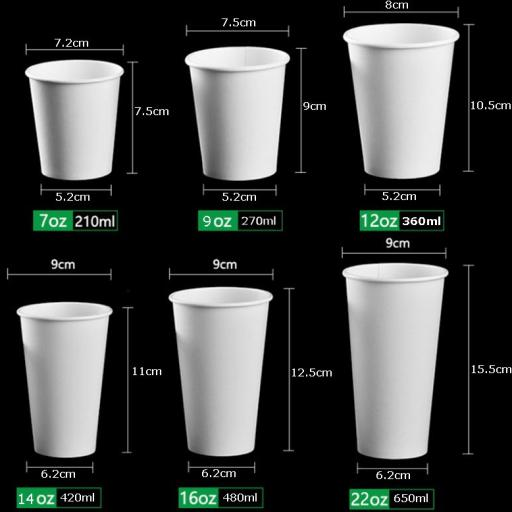cup: (344, 263, 446, 459), (344, 24, 457, 178), (169, 288, 272, 456), (18, 302, 111, 457), (186, 47, 288, 180), (26, 60, 122, 180)
